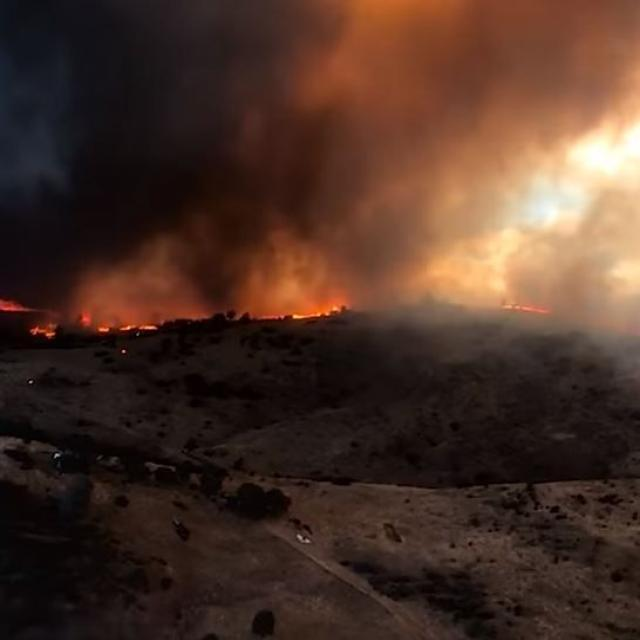Smoke: (0, 0, 640, 314)
